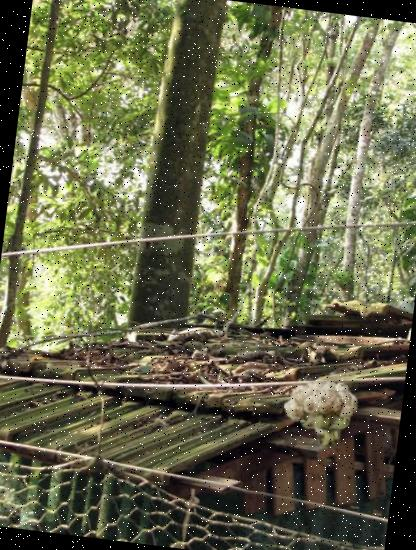Cauliflower: (278, 370, 362, 454)
